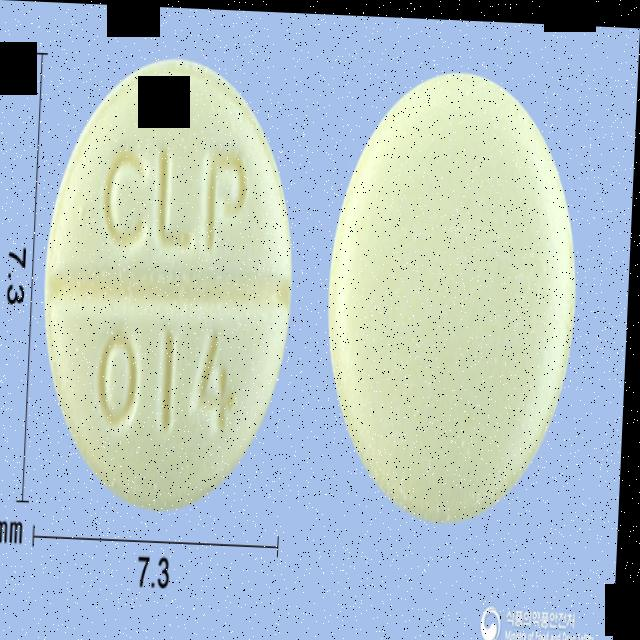Cipron: (323, 64, 587, 525), (39, 53, 302, 514)
